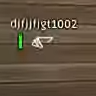hacks_2: (11, 17, 78, 49)
